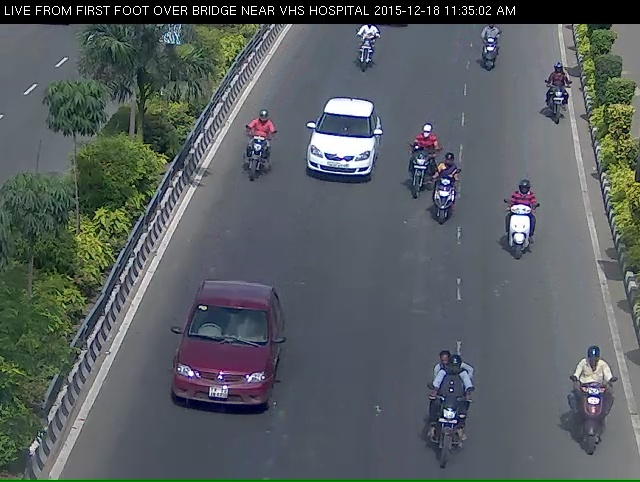Car: (150, 294, 276, 464), (301, 113, 378, 209)
Person: (410, 393, 487, 481), (566, 395, 614, 480), (229, 129, 271, 210), (396, 139, 432, 222), (539, 65, 573, 133), (431, 157, 456, 247), (476, 23, 503, 78), (353, 34, 377, 79)
